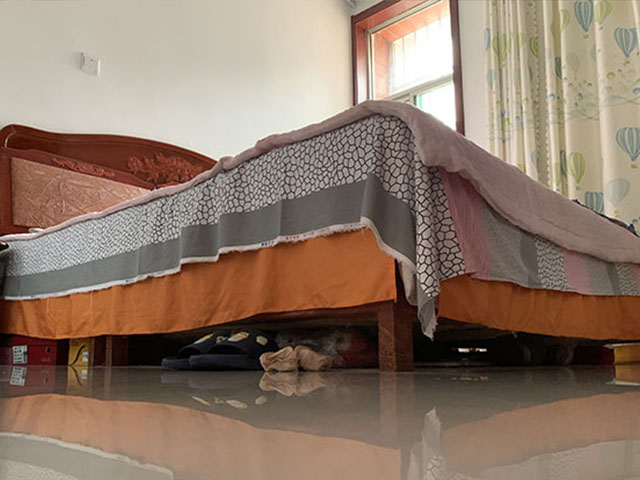bed: (1, 95, 640, 373)
slippers: (160, 329, 279, 371)
socks: (257, 342, 333, 373)
